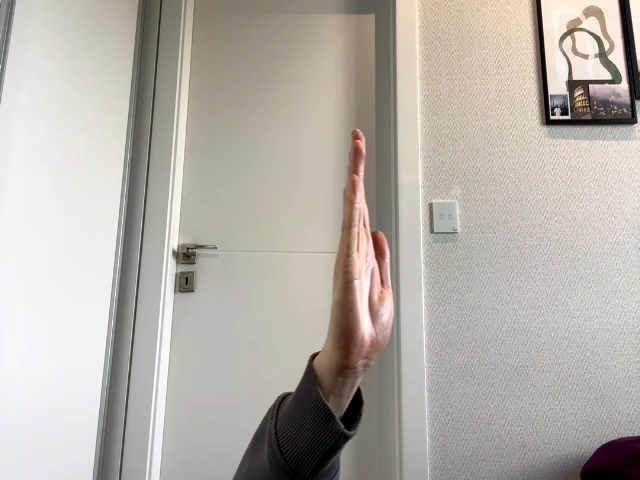SZ: (329, 129, 394, 372)
